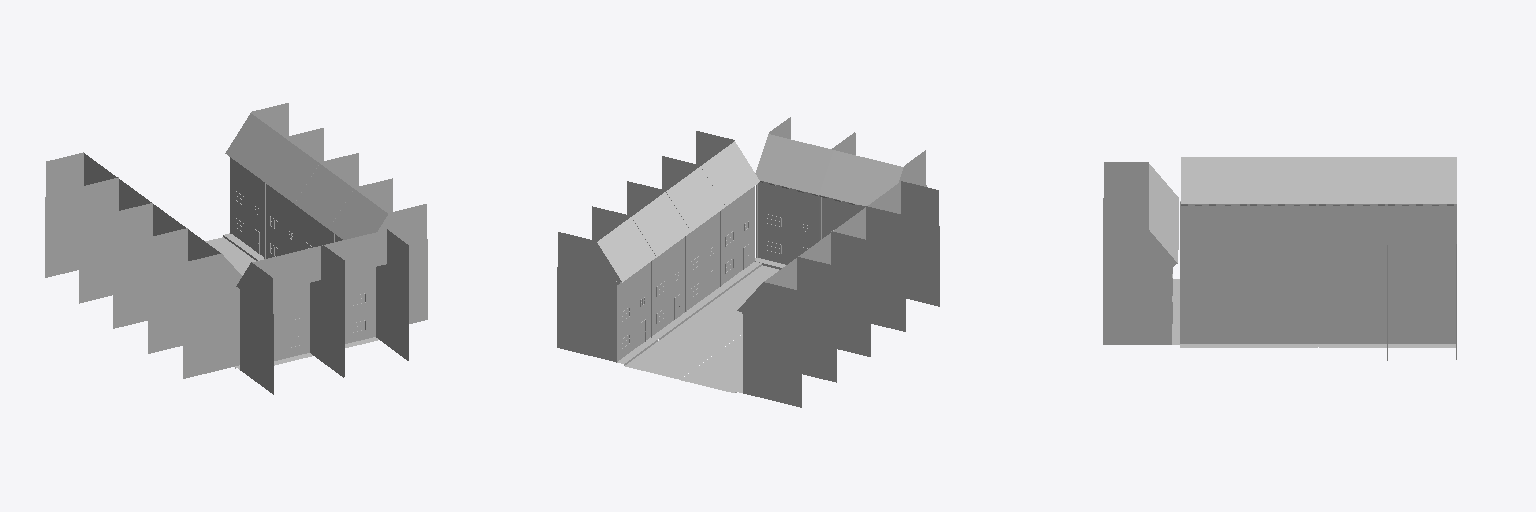
Rendered from Street.obj.
3 views of the same model, side by side, from view 1: azimuth 30°, elevation 25°; view 2: azimuth 150°, elevation 25°; view 3: azimuth 270°, elevation 25° (orthographic).
Visible parts, largest first — view 1: Plane.002, Plane.004, Plane.005, Plane.008, Plane.009, Plane.007, Plane.014, Plane.003, Plane.001, Plane.006; view 2: Plane.008, Plane.001, Plane.004, Plane.007, Plane.006, Plane.009, Plane.014, Plane.003, Plane.005, Plane.002; view 3: Plane.004, Plane.009, Plane.006, Plane.007, Plane.008, Plane.001, Plane.014, Plane.002, Plane.003, Plane.005.
Part boxes in pixels (bbox=[...]): Plane.002: bbox=[148, 228, 241, 378]; Plane.004: bbox=[310, 229, 408, 377]; Plane.005: bbox=[235, 245, 344, 394]; Plane.008: bbox=[205, 103, 288, 267]; Plane.009: bbox=[329, 178, 427, 323]; Plane.007: bbox=[235, 128, 356, 275]; Plane.014: bbox=[79, 178, 151, 328]; Plane.003: bbox=[114, 203, 185, 328]; Plane.001: bbox=[45, 152, 118, 277]; Plane.006: bbox=[295, 153, 367, 250]; Plane.008: bbox=[557, 206, 713, 379]; Plane.001: bbox=[680, 257, 836, 407]; Plane.004: bbox=[755, 117, 855, 269]; Plane.007: bbox=[613, 181, 742, 354]; Plane.006: bbox=[628, 156, 749, 327]; Plane.009: bbox=[664, 131, 778, 295]; Plane.014: bbox=[715, 232, 870, 361]; Plane.003: bbox=[831, 206, 905, 331]; Plane.005: bbox=[819, 132, 926, 240]; Plane.002: bbox=[868, 181, 939, 306]; Plane.004: bbox=[1103, 196, 1179, 344]; Plane.009: bbox=[1180, 238, 1249, 347]; Plane.006: bbox=[1249, 238, 1318, 347]; Plane.007: bbox=[1319, 238, 1387, 360]; Plane.008: bbox=[1388, 238, 1456, 359]; Plane.001: bbox=[1387, 157, 1456, 244]; Plane.014: bbox=[1318, 157, 1387, 262]; Plane.002: bbox=[1180, 157, 1249, 237]; Plane.003: bbox=[1249, 157, 1318, 237]; Plane.005: bbox=[1103, 162, 1179, 312].
Bounding box in the file's own units: 24.75 × 11.4 × 30.9.